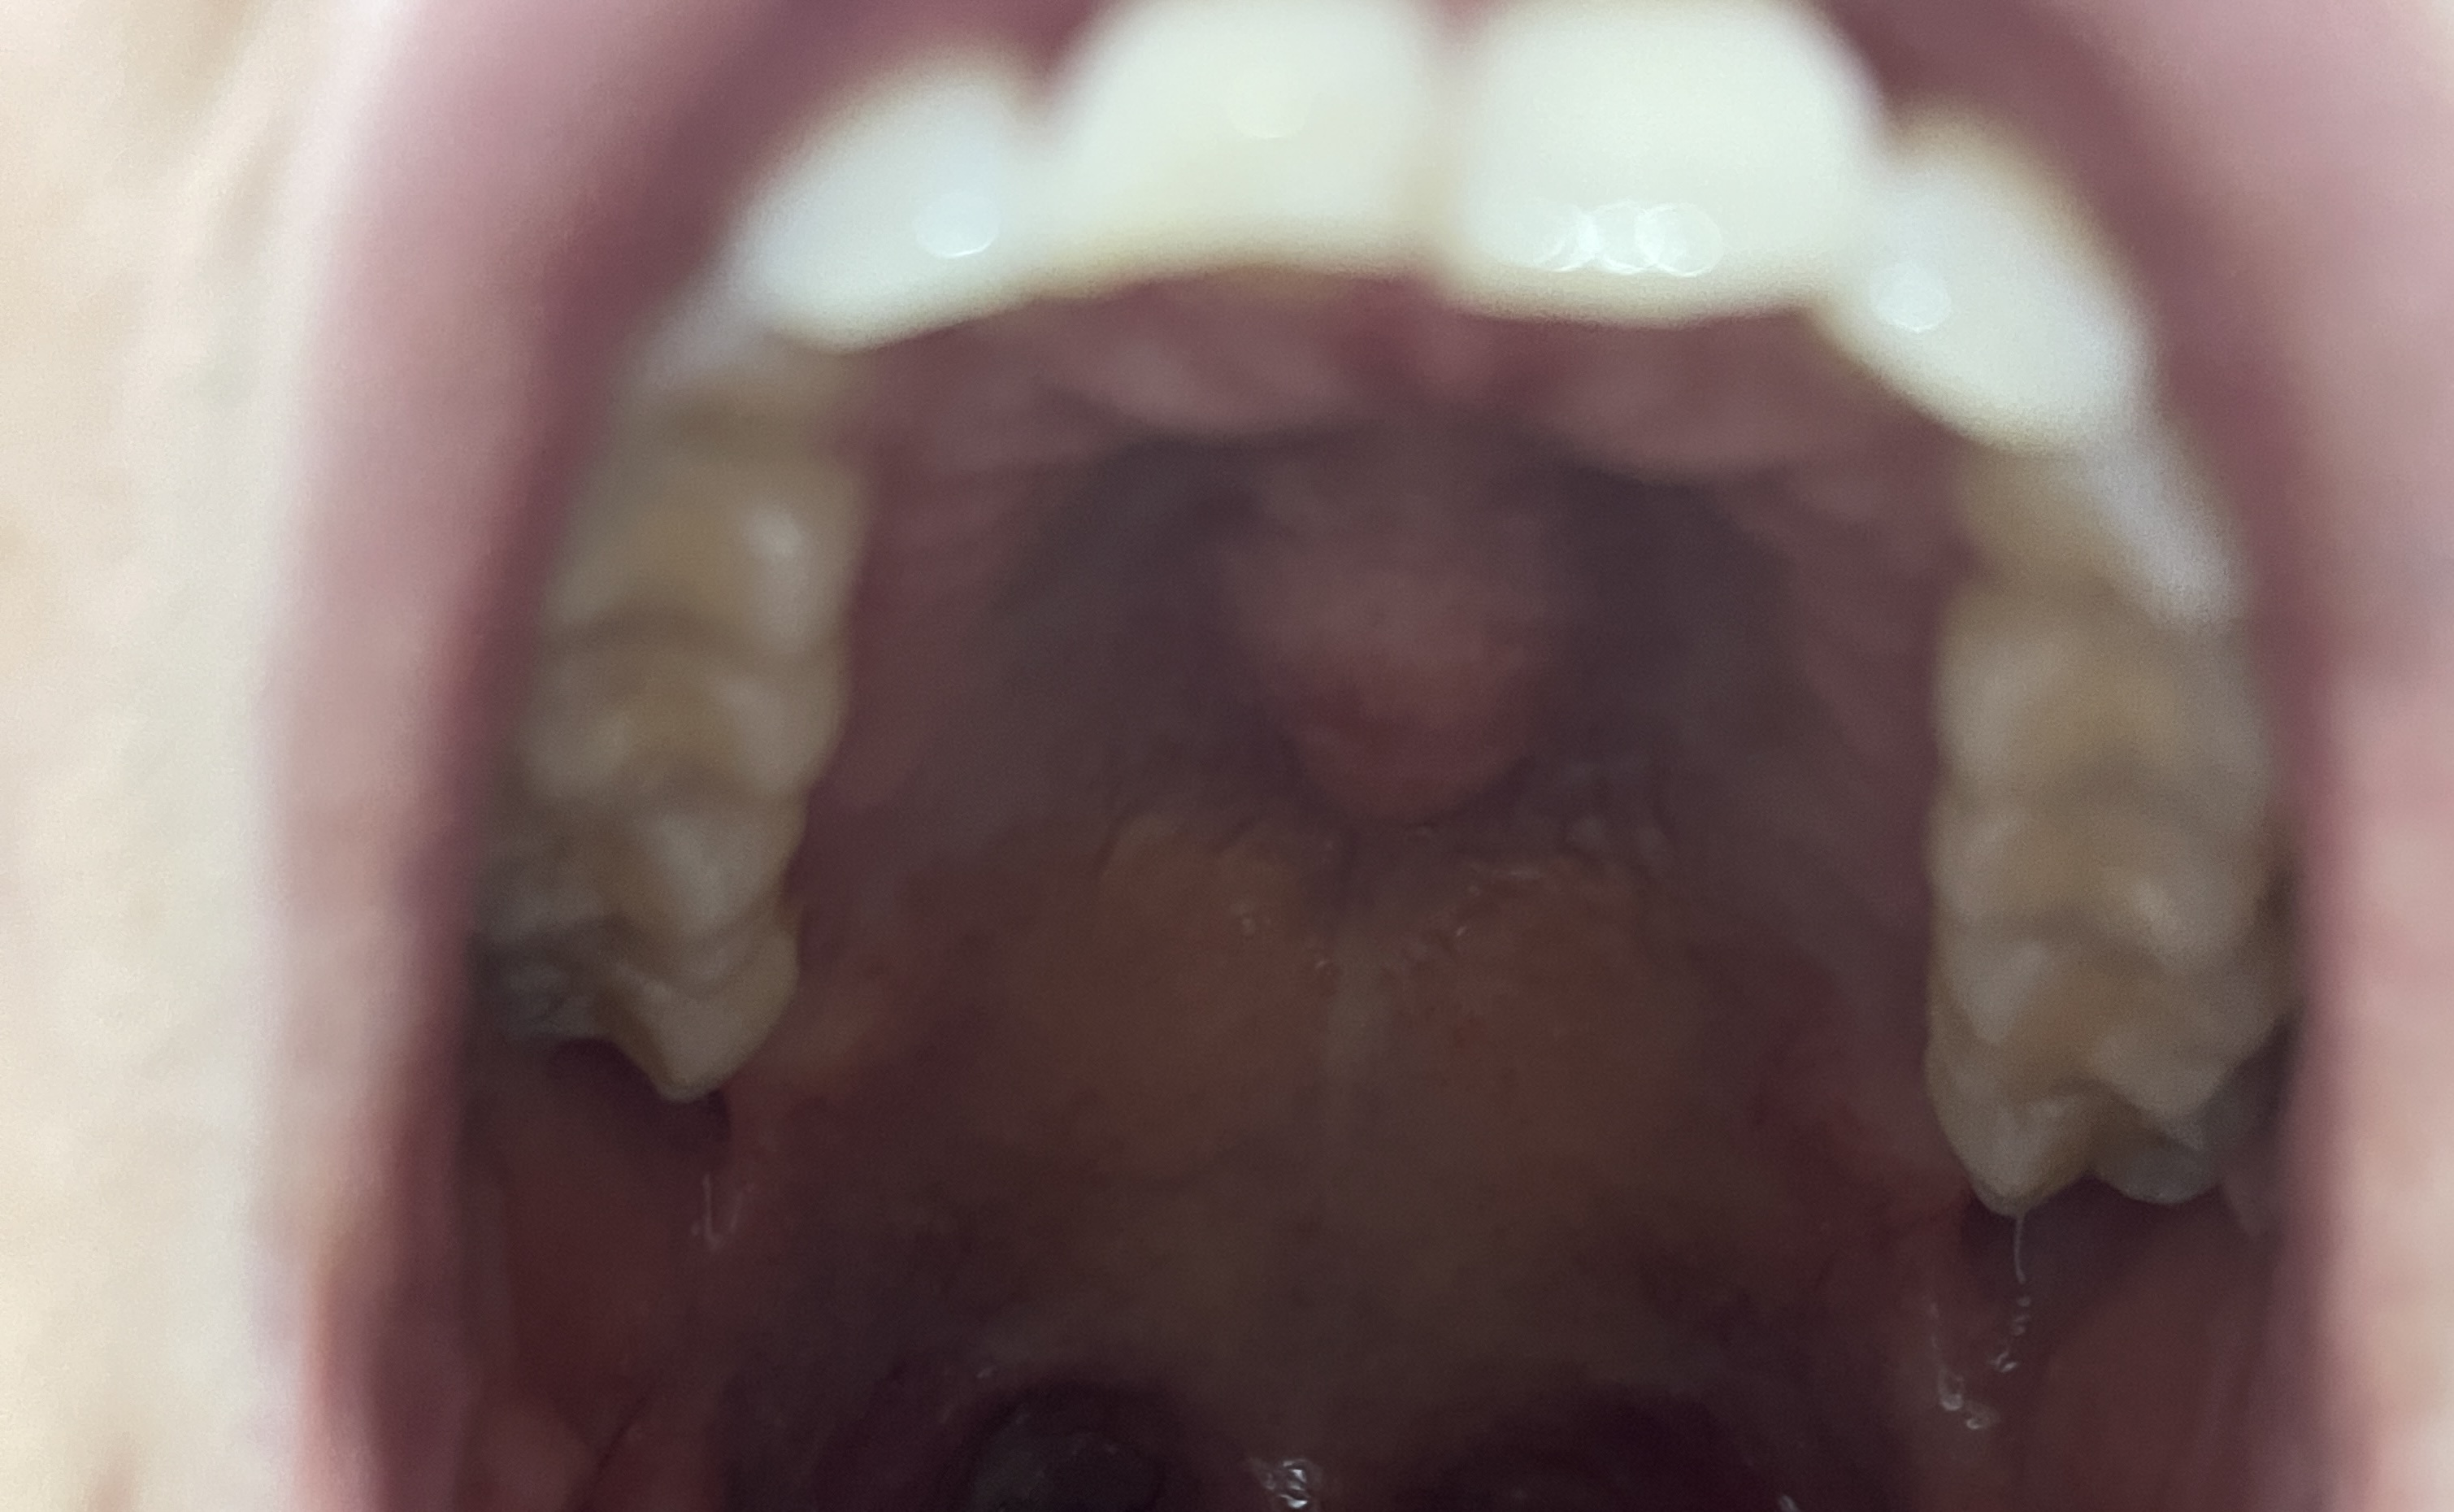teeth: (1444, 11, 1890, 296), (1034, 5, 1451, 275), (1825, 109, 2158, 438), (736, 47, 1041, 331)
